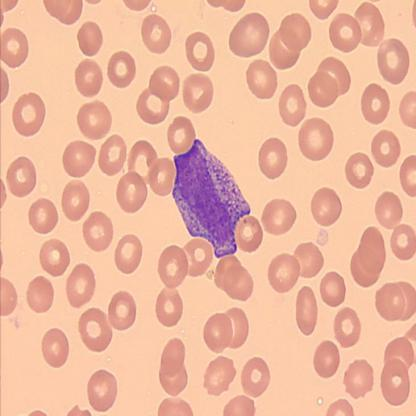Myelocyte: (172, 138, 251, 256)
